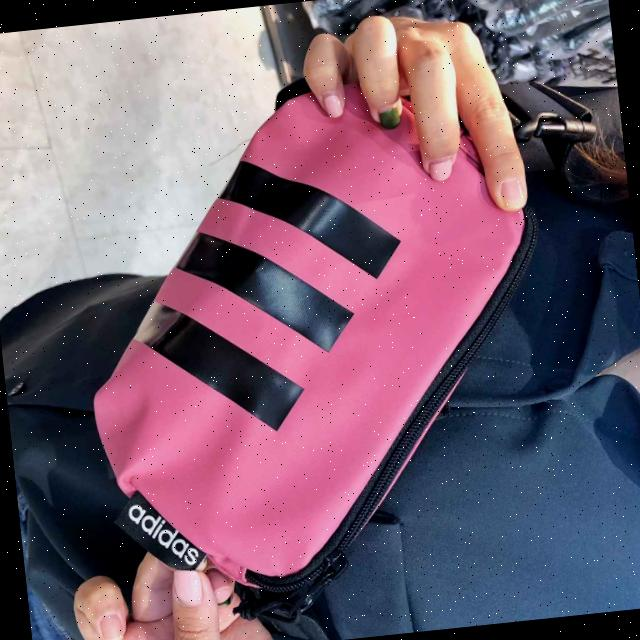handbag: (63, 62, 573, 610)
